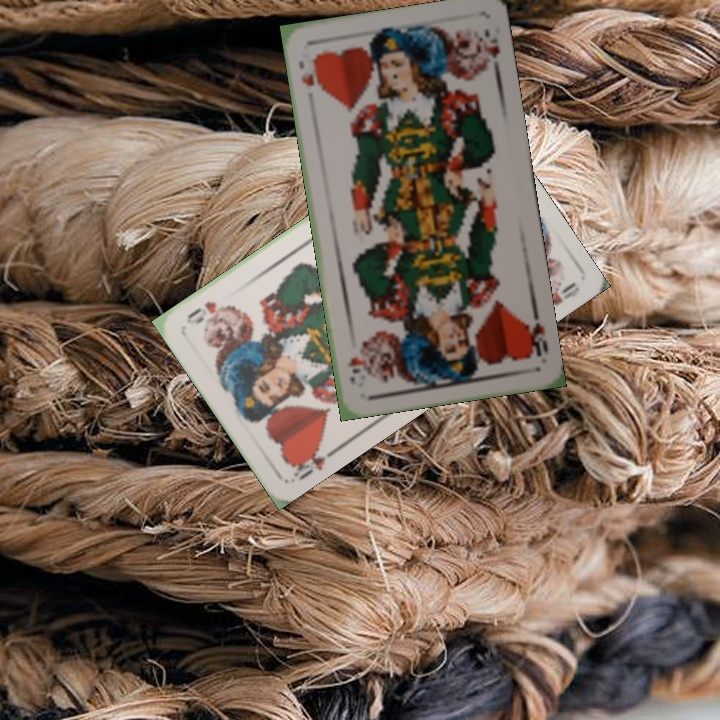HO: (286, 439, 340, 484), (520, 317, 551, 361), (295, 49, 323, 89)
